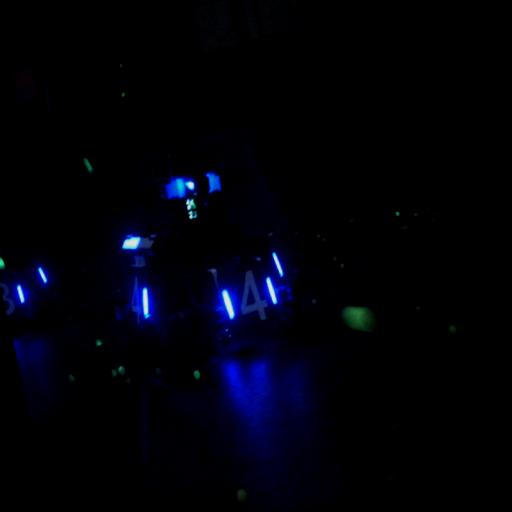target: (207, 255, 286, 341), (116, 268, 160, 334), (0, 273, 31, 323)
